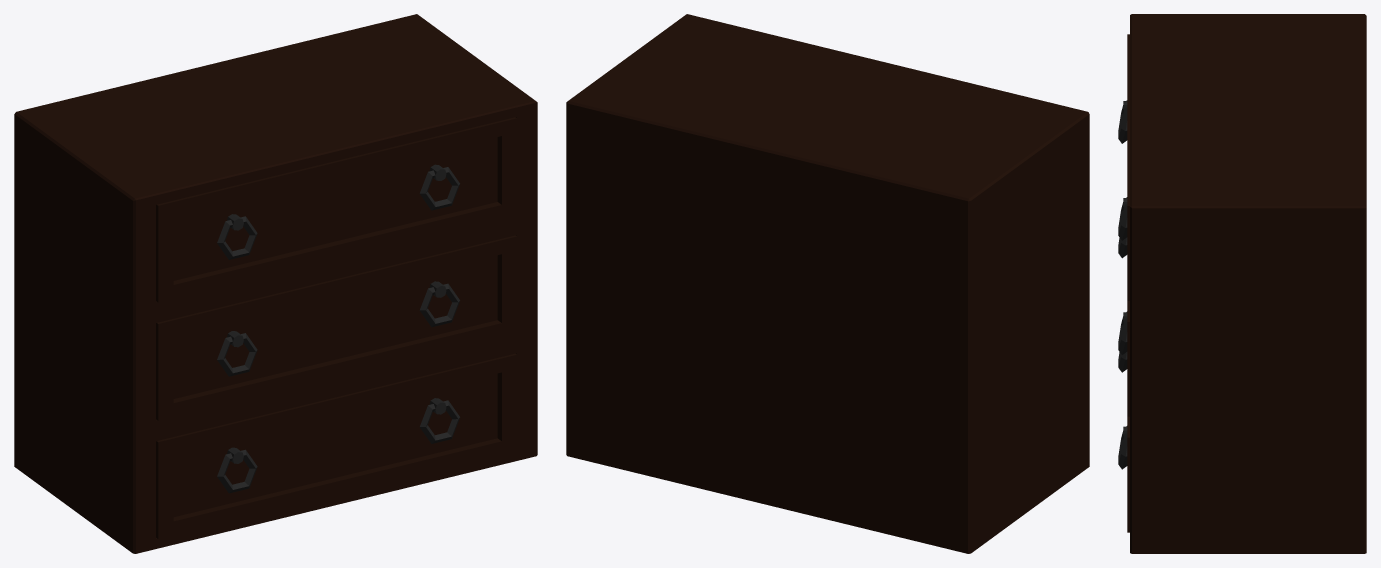
The model's file is BachelorDresser1.obj.
3 renders of one model, left to right at view 1: azimuth 30°, elevation 25°; view 2: azimuth 150°, elevation 25°; view 3: azimuth 270°, elevation 25°, orthographic. The views are drawn at different scales.
Visible parts, largest first — view 1: BachelorDresser1_Cube.002, Drawer3_BachelorDresser1_Cube.003, Drawer1_BachelorDresser1_Cube.001, Drawer2_BachelorDresser1_Cube.006; view 2: BachelorDresser1_Cube.002; view 3: BachelorDresser1_Cube.002, Drawer1_BachelorDresser1_Cube.001, Drawer3_BachelorDresser1_Cube.003, Drawer2_BachelorDresser1_Cube.006.
Boxes of the visible parts, <box> form: BachelorDresser1_Cube.002: <box>14,14,537,553</box>; Drawer3_BachelorDresser1_Cube.003: <box>156,353,516,538</box>; Drawer1_BachelorDresser1_Cube.001: <box>156,117,516,302</box>; Drawer2_BachelorDresser1_Cube.006: <box>156,235,516,420</box>; BachelorDresser1_Cube.002: <box>566,14,1089,553</box>; BachelorDresser1_Cube.002: <box>1130,14,1366,553</box>; Drawer1_BachelorDresser1_Cube.001: <box>1118,34,1129,300</box>; Drawer3_BachelorDresser1_Cube.003: <box>1118,352,1129,532</box>; Drawer2_BachelorDresser1_Cube.006: <box>1118,237,1129,416</box>.
Size of the model in its own units: 0.9371 by 0.7851 by 0.5086.
